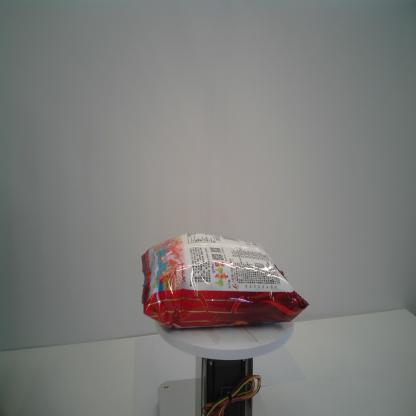Puffed Food: (140, 230, 309, 331)
